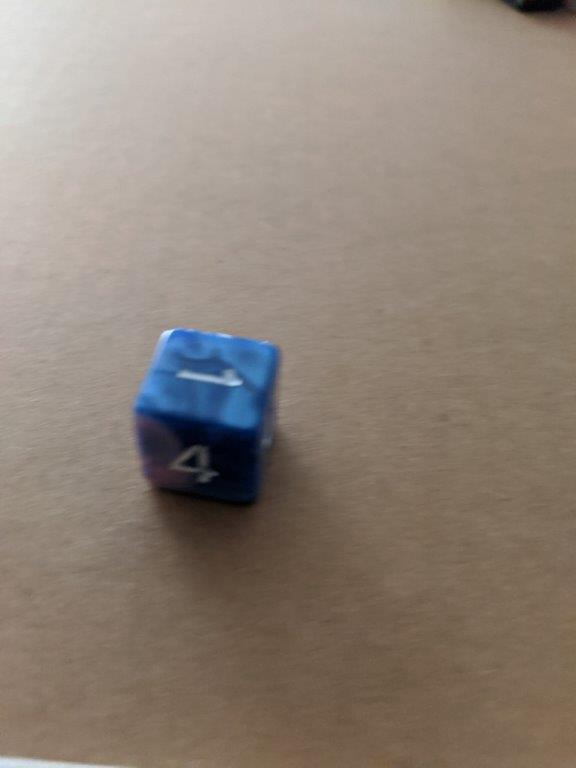d6-1: (133, 325, 284, 507)
